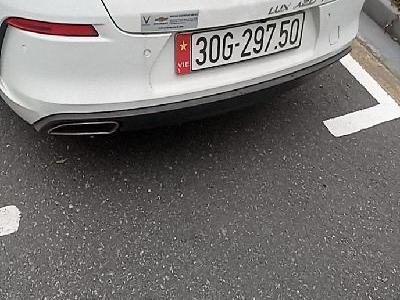lisence: (173, 10, 306, 75)
